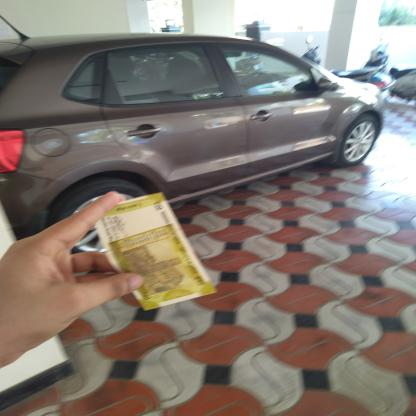New20Back: (100, 192, 204, 307)
